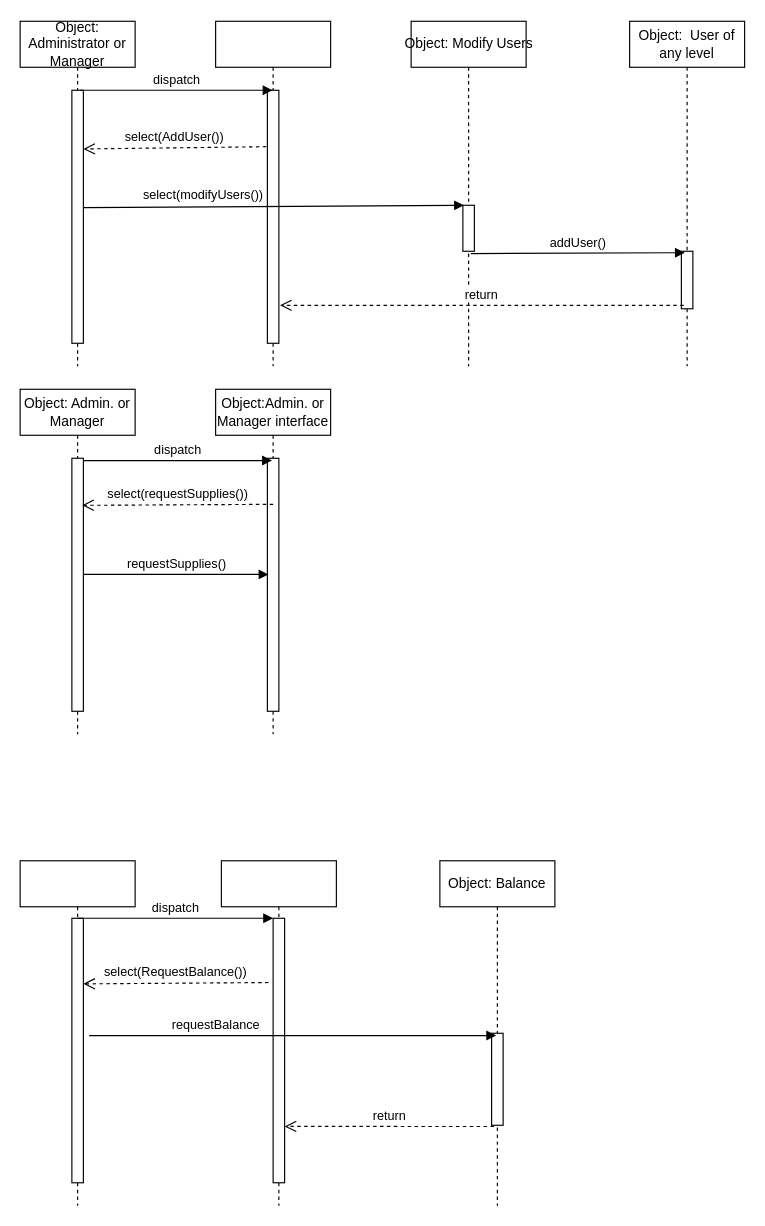
This 765x1226 diagram has some shape labels left out. Here are the shapes that lost their labels. From the top down, the box of each, then its label:
(214, 20, 331, 366): Object: Admin. or Man. Interface
(19, 860, 135, 1206): Object: Economist
(220, 860, 336, 1206): Object: Economist Interface
